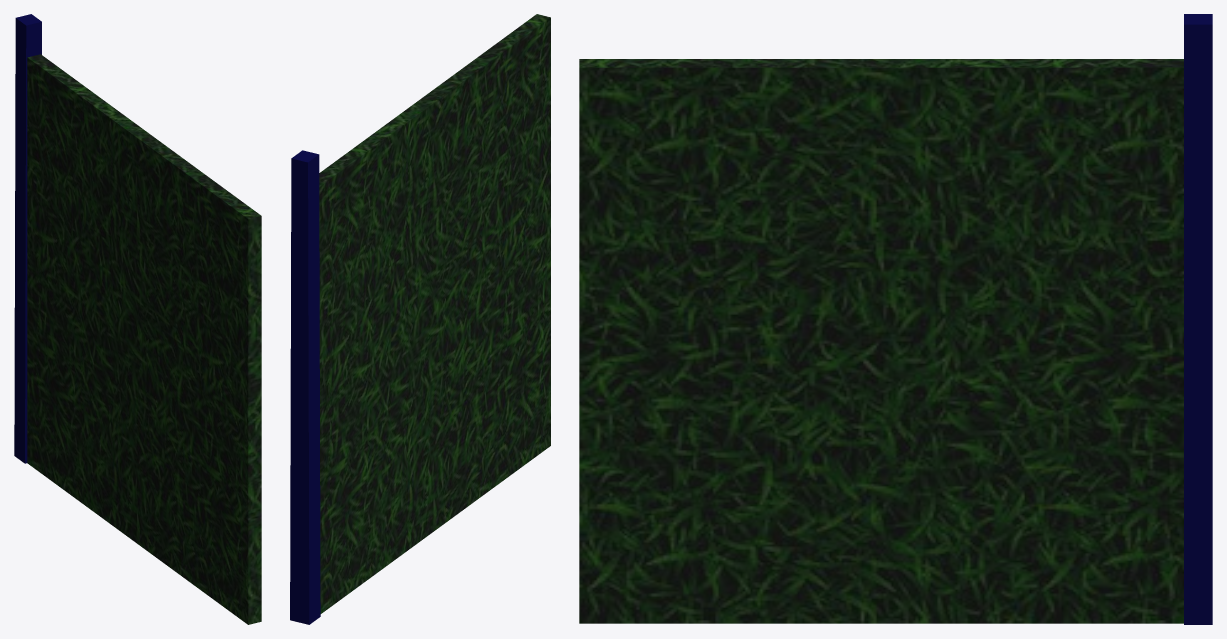
The model's file is FenceGate.fbx.
The picture shows the model from 3 angles, left to right: view 1: azimuth 30°, elevation 25°; view 2: azimuth 150°, elevation 25°; view 3: azimuth 270°, elevation 25°; orthographic projection. The views are drawn at different scales.
Visible parts, largest first — view 1: Cube.004; view 2: Cube.004; view 3: Cube.004.
Part boxes in pixels (bbox=[...]): Cube.004: bbox=[14, 14, 261, 624]; Cube.004: bbox=[290, 14, 550, 624]; Cube.004: bbox=[579, 14, 1212, 624].
Size of the model in its own units: 41.16 by 941 by 901.
